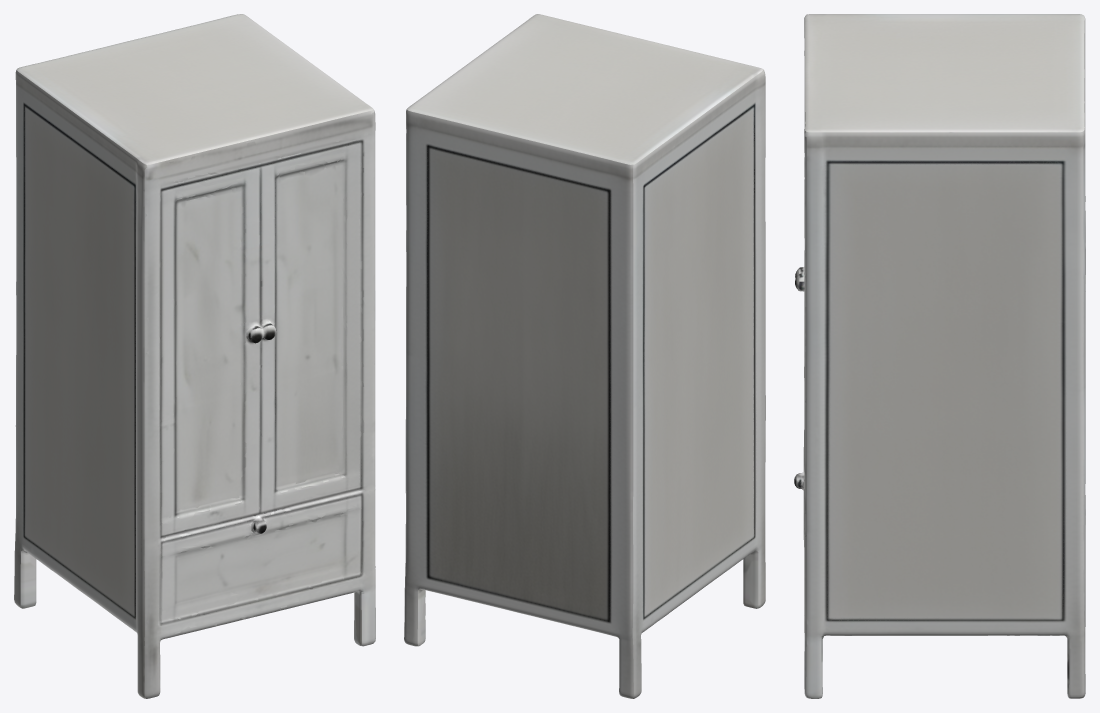
Rendered from wardrobe__wardrobe#4.glb.
3 renders of one model, left to right at view 1: azimuth 30°, elevation 25°; view 2: azimuth 150°, elevation 25°; view 3: azimuth 270°, elevation 25°, orthographic. The views are drawn at different scales.
Parts seen in each view (by area): view 1: tmpf4_zjmls.ply; view 2: tmpf4_zjmls.ply; view 3: tmpf4_zjmls.ply.
Boxes of the visible parts, x1=… form: tmpf4_zjmls.ply: x1=14, y1=14, x2=375, y2=698; tmpf4_zjmls.ply: x1=404, y1=14, x2=765, y2=698; tmpf4_zjmls.ply: x1=794, y1=14, x2=1085, y2=698.
Size of the model in its own units: 0.9074 by 1.99 by 0.9248.
Materials: 1 (1 with a texture image).
